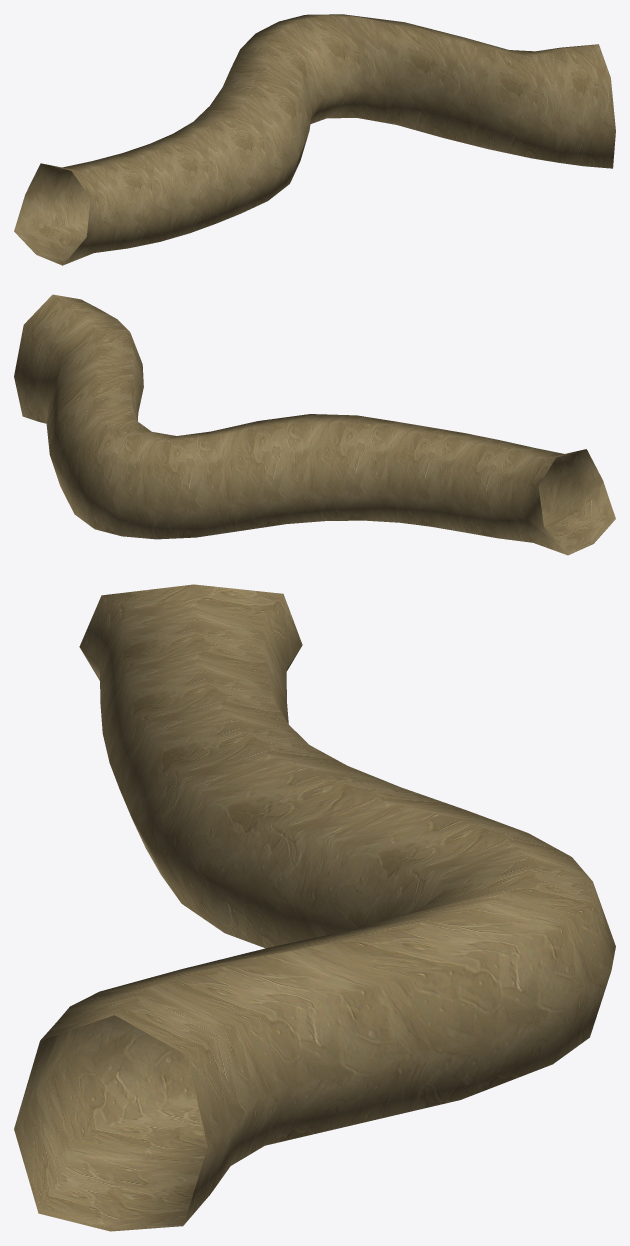
Rendered from MIRKWOOD_SB_TUNNEL2.fbx.
3 renders of one model, top to bottom at view 1: azimuth 30°, elevation 25°; view 2: azimuth 150°, elevation 25°; view 3: azimuth 270°, elevation 25°, orthographic. The views are drawn at different scales.
Parts seen in each view (by area): view 1: MIRKWOOD_SB_TUNNEL2; view 2: MIRKWOOD_SB_TUNNEL2; view 3: MIRKWOOD_SB_TUNNEL2.
Part boxes in pixels (box(x1,y1,x2,y2)): MIRKWOOD_SB_TUNNEL2: box(14, 14, 615, 265); MIRKWOOD_SB_TUNNEL2: box(14, 294, 615, 555); MIRKWOOD_SB_TUNNEL2: box(14, 584, 615, 1231).
Size of the model in its own units: 275307 by 53935 by 137445.
1 material, 1 textured.
